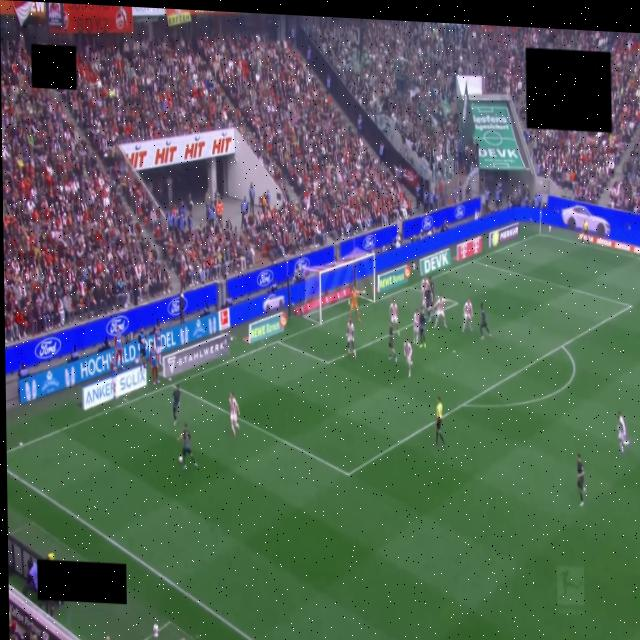ball: (179, 456, 183, 463)
player: (178, 424, 197, 469), (577, 453, 586, 507), (618, 412, 629, 453), (480, 303, 491, 339), (230, 393, 239, 436), (349, 286, 360, 321), (434, 295, 446, 327), (347, 318, 356, 358), (424, 278, 433, 317), (418, 309, 427, 348), (390, 299, 399, 335), (389, 324, 397, 362), (463, 300, 472, 332), (404, 341, 412, 377), (173, 385, 180, 425), (421, 278, 429, 311), (413, 309, 420, 345), (429, 277, 435, 317)
referee: (435, 396, 445, 446)
